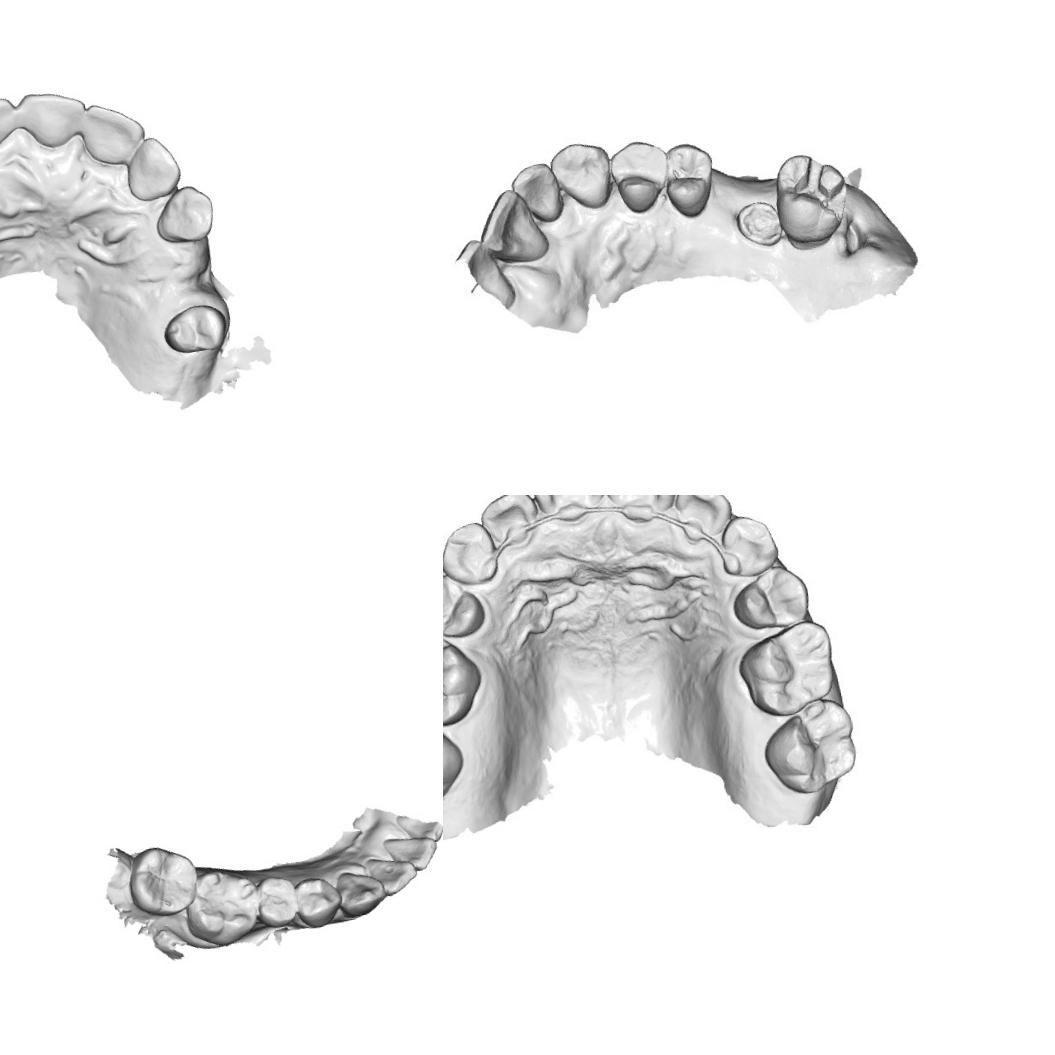canine: (547, 136, 618, 216), (443, 518, 507, 592), (149, 181, 219, 248), (716, 510, 782, 578), (332, 864, 389, 918)
incisor: (472, 182, 556, 272), (74, 94, 151, 173), (16, 83, 93, 154), (119, 131, 184, 206), (475, 495, 548, 559), (507, 158, 570, 229), (380, 830, 442, 877), (364, 850, 422, 900), (531, 495, 610, 530), (673, 495, 735, 539), (602, 495, 682, 523), (394, 806, 443, 847), (0, 94, 23, 161)
inlay: (773, 150, 853, 234)
molar: (732, 616, 844, 720), (758, 693, 865, 801), (178, 862, 268, 953), (121, 838, 206, 923), (443, 623, 486, 736), (443, 704, 469, 812)
premolar: (730, 562, 814, 638), (603, 134, 675, 218), (659, 137, 722, 222), (156, 298, 234, 360), (443, 567, 486, 644), (292, 872, 346, 930), (253, 870, 301, 931)
